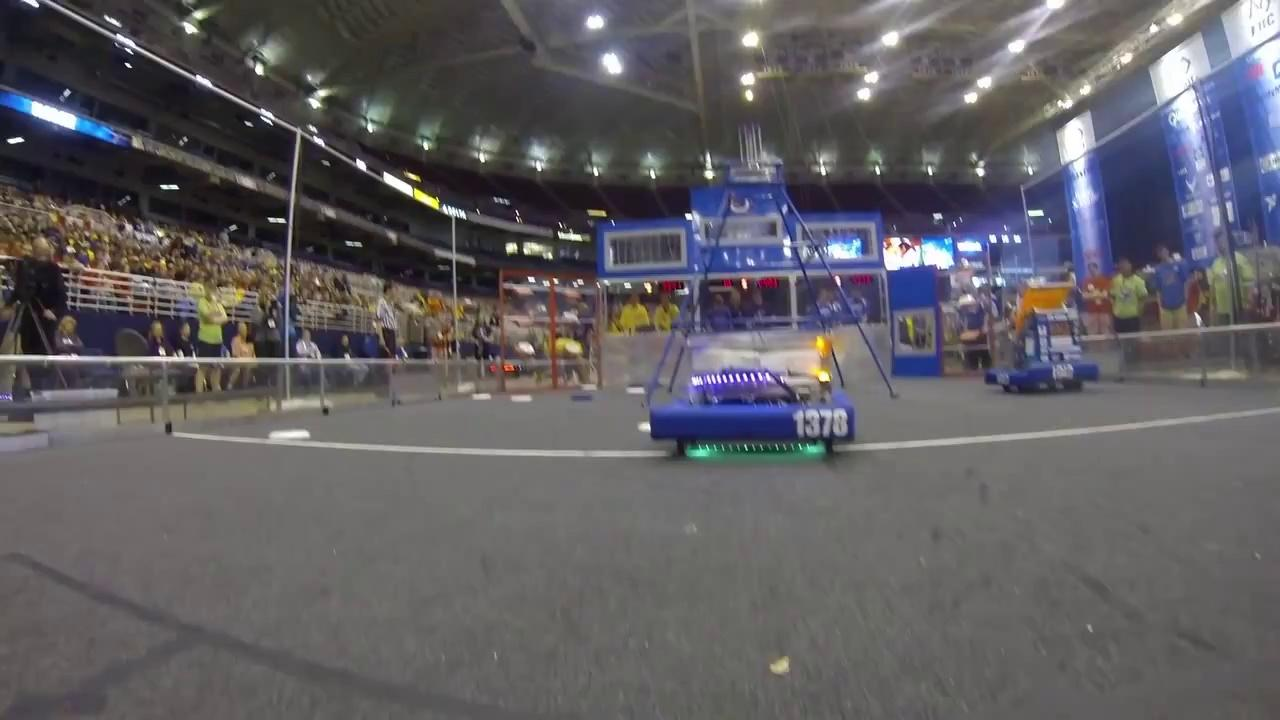robot: (646, 331, 857, 466), (980, 277, 1100, 394)
